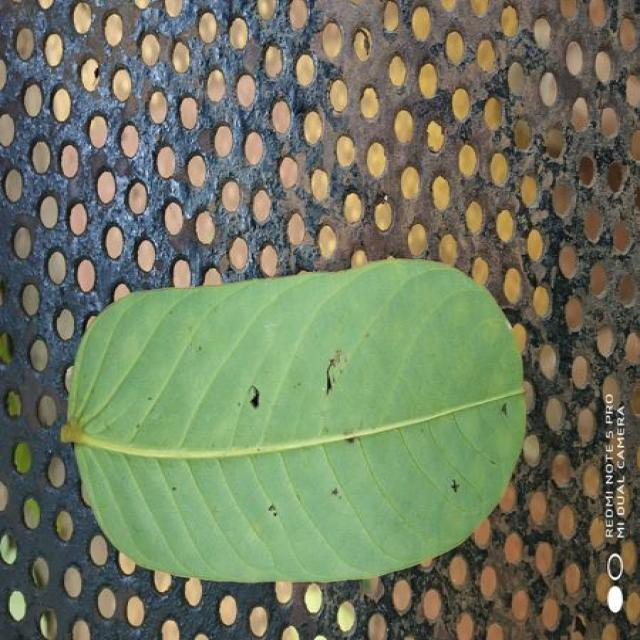alternaria blight: (135, 273, 518, 536)
chakte: (62, 260, 525, 582)
